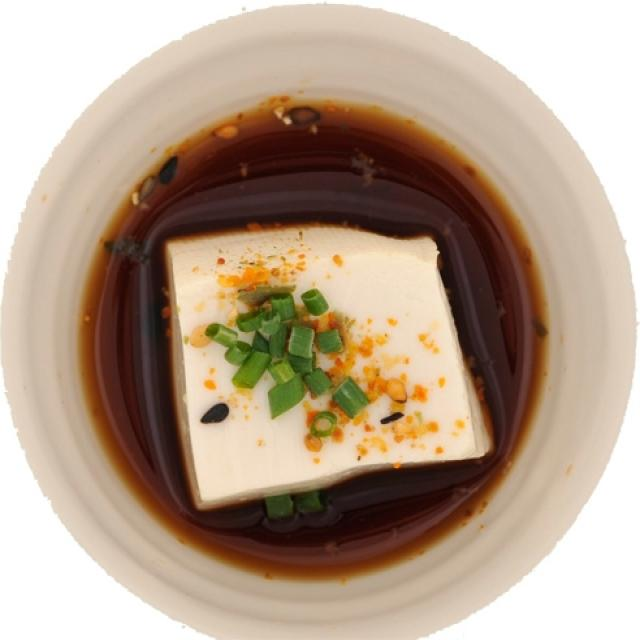豆腐料理: (4, 8, 627, 635)
